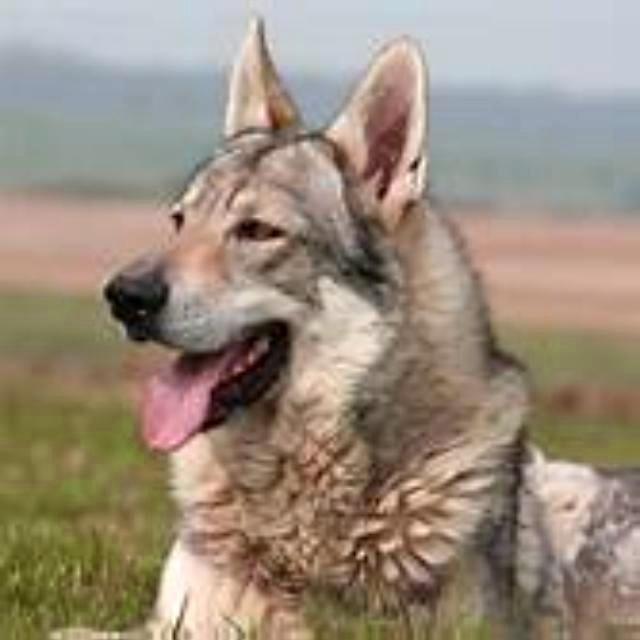dog: (104, 3, 634, 635), (104, 635, 634, 640), (104, 0, 634, 3)
